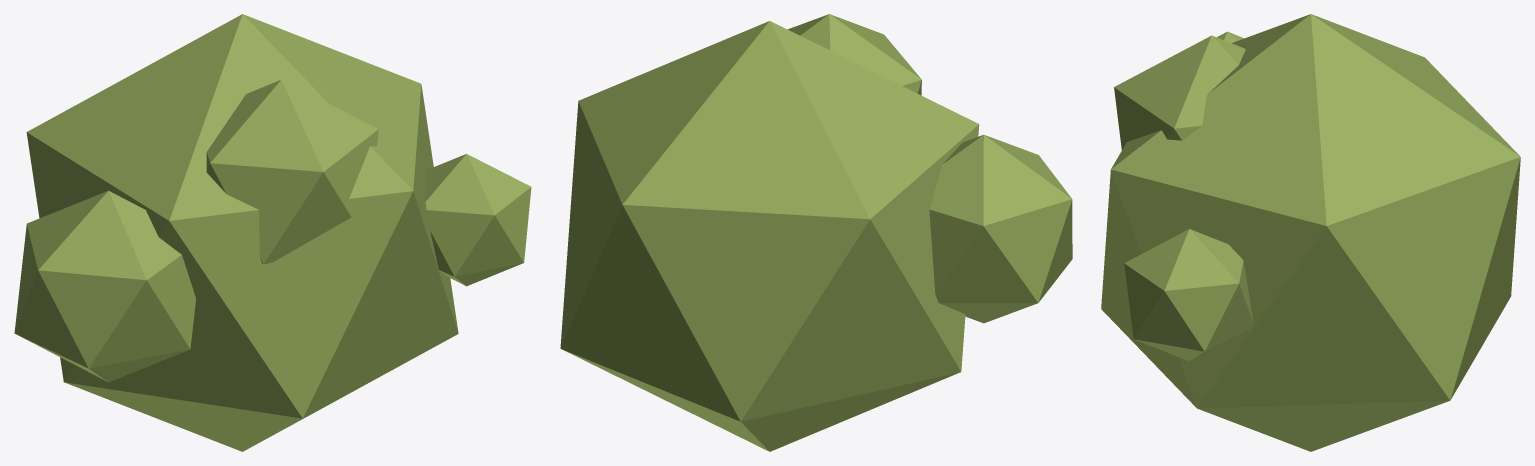
The model's file is bush_medium_clump.glb.
3 renders of one model, left to right at view 1: azimuth 30°, elevation 25°; view 2: azimuth 150°, elevation 25°; view 3: azimuth 270°, elevation 25°, orthographic.
Visible parts, largest first — view 1: Object_79; view 2: Object_79; view 3: Object_79.
Part boxes in pixels (x1,y1,x2,y2): Object_79: (14,14,531,451); Object_79: (560,14,1072,451); Object_79: (1101,14,1520,451).
Bounding box in the file's own units: 1.93 × 1.7 × 1.48.
